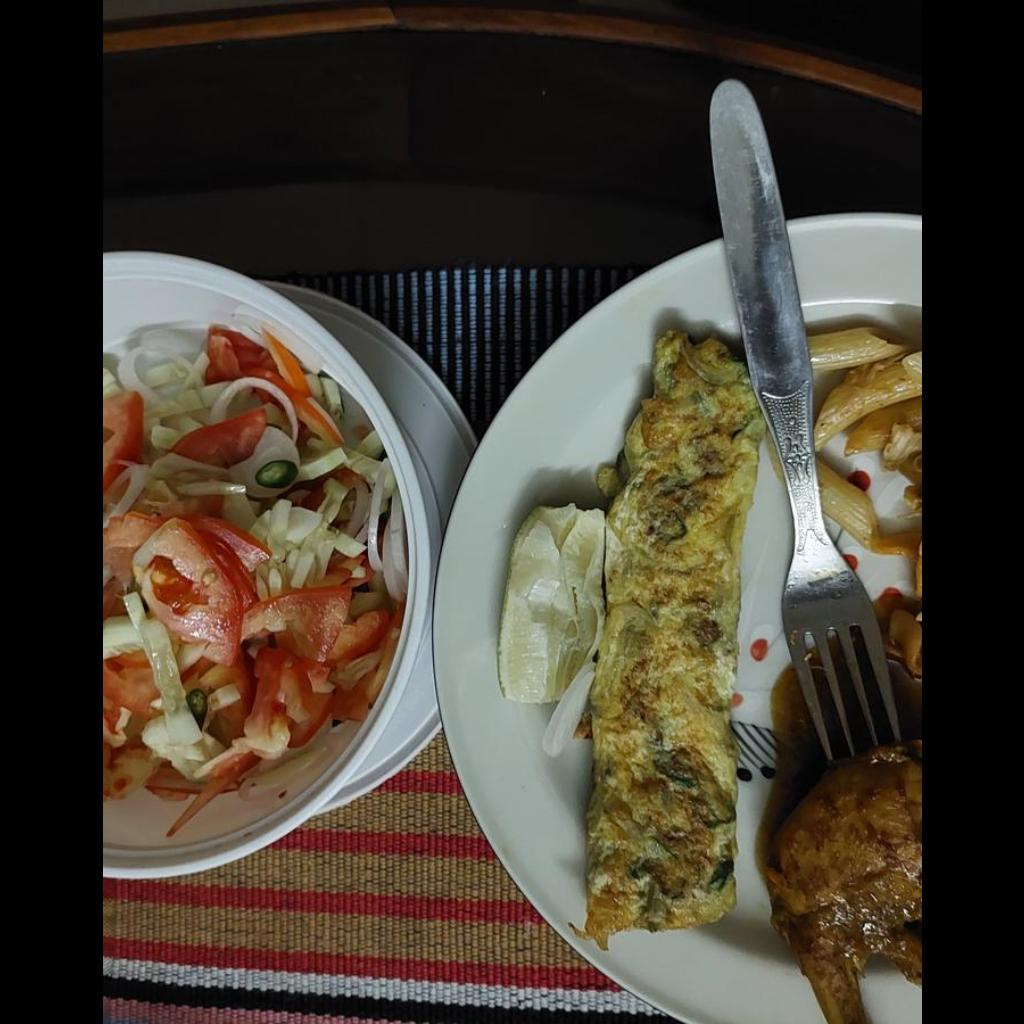chicken: (768, 742, 920, 1022)
egg-poached: (581, 326, 762, 948)
lemon: (496, 504, 599, 704)
salad: (102, 326, 406, 801)
